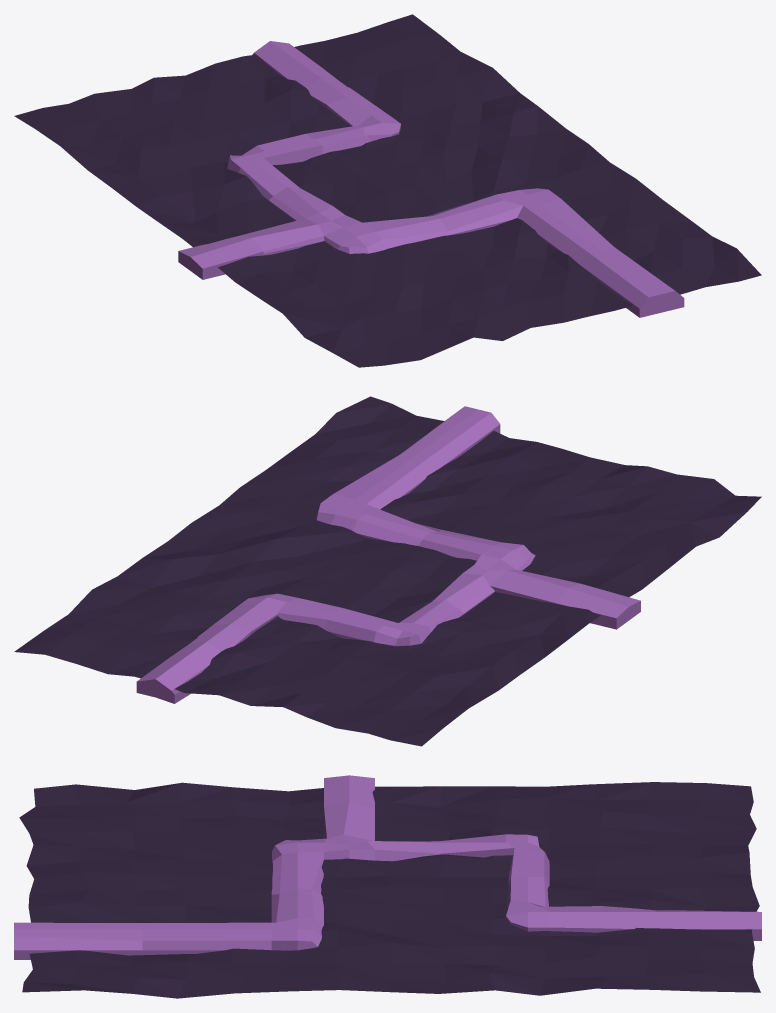
The picture shows the model from 3 angles, top to bottom: view 1: azimuth 30°, elevation 25°; view 2: azimuth 150°, elevation 25°; view 3: azimuth 270°, elevation 25°; orthographic projection. The views are drawn at different scales.
Visible parts, largest first — view 1: Plane.001, Cube; view 2: Plane.001, Cube; view 3: Plane.001, Cube.
Boxes of the visible parts, bbox=[...] form: Plane.001: bbox=[14, 14, 761, 367]; Cube: bbox=[178, 41, 684, 317]; Plane.001: bbox=[14, 396, 761, 746]; Cube: bbox=[136, 406, 640, 703]; Plane.001: bbox=[19, 782, 760, 998]; Cube: bbox=[14, 775, 761, 959].
Bounding box in the file's own units: 4802 × 302 × 7062.
